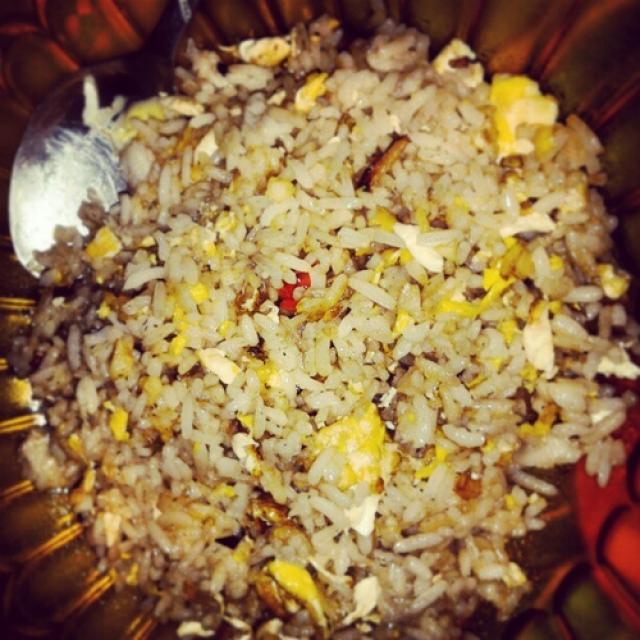米饭主食: (27, 40, 613, 604)
